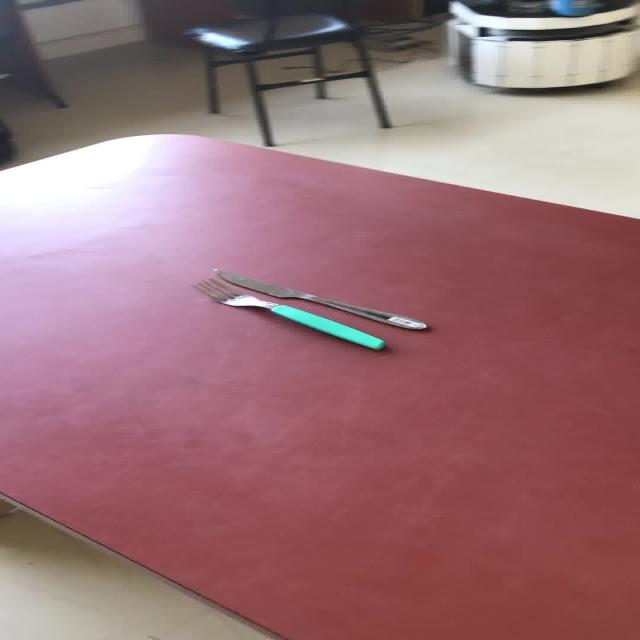fork: (190, 276, 385, 351)
knife fork: (211, 268, 427, 330)
